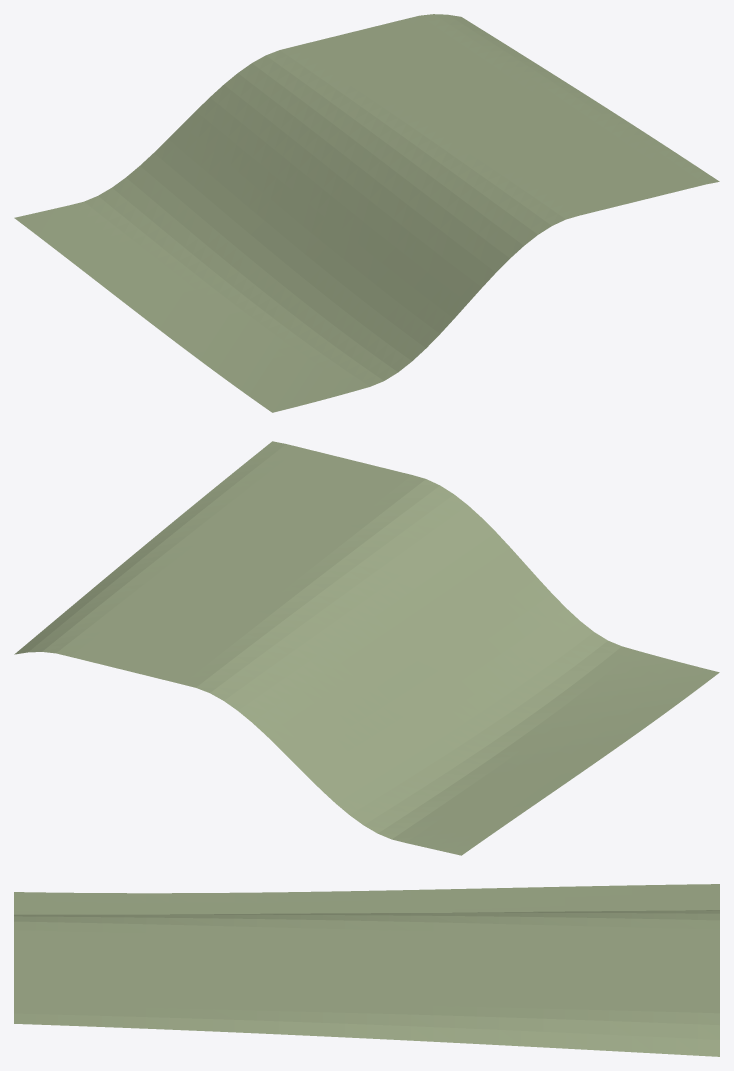
Rendered from alpine-2-6.glb.
3 renders of one model, top to bottom at view 1: azimuth 30°, elevation 25°; view 2: azimuth 150°, elevation 25°; view 3: azimuth 270°, elevation 25°, orthographic. The views are drawn at different scales.
Parts seen in each view (by area): view 1: alpine-2-6; view 2: alpine-2-6; view 3: alpine-2-6.
Part boxes in pixels (box(x1,y1,x2,y2)): alpine-2-6: box(14, 14, 719, 412); alpine-2-6: box(14, 441, 719, 855); alpine-2-6: box(14, 884, 719, 1056).
Bounding box in the file's own units: 256 × 67.88 × 256.
